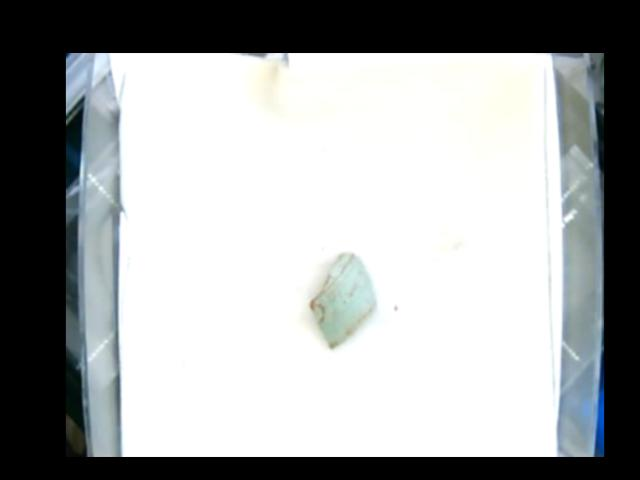China: (311, 255, 377, 347)
